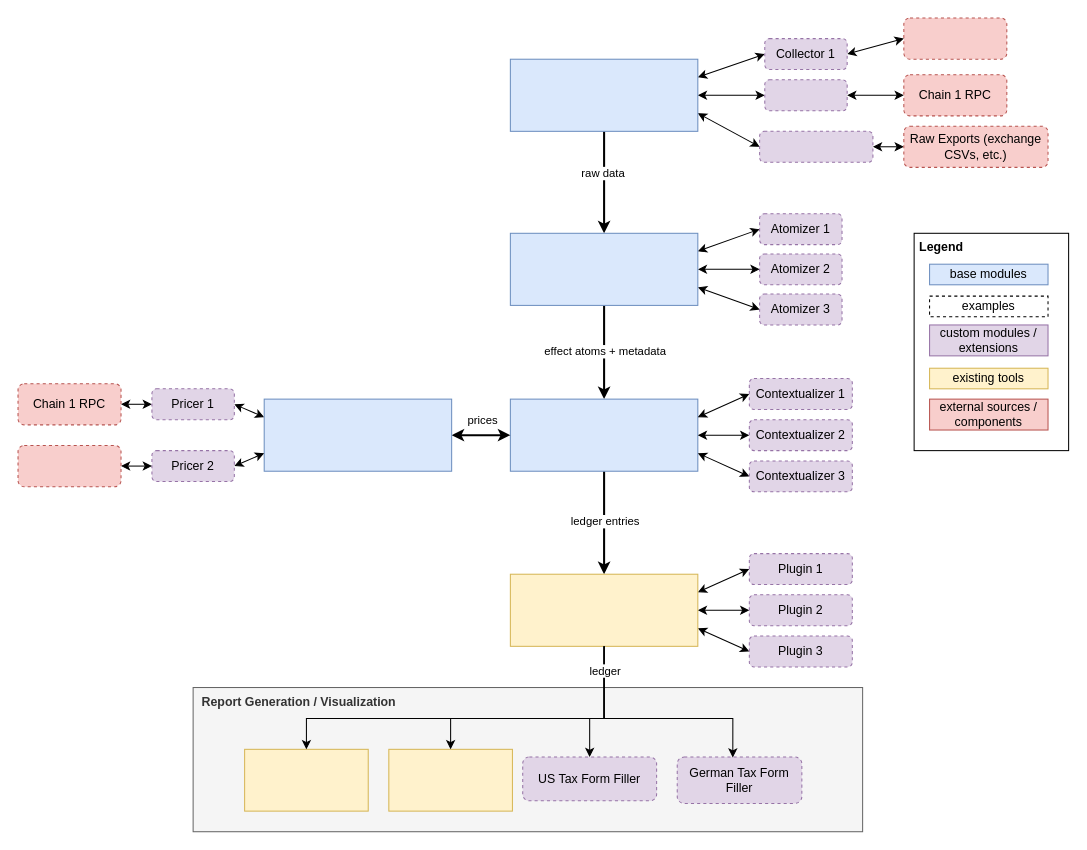
Image size: 1087x850. Some labels were removed from this diagram. The centre of each missing label's shape, as x and y in pixels:
Atomizer Extract standardized "effect atoms": the point at 603,268
Basic File Collector: the point at 816,146
bean-report CLI for creating balances, account outputs, etc.: the point at 450,779
Beancount Serves as entry storage format and verification: the point at 603,609
Coingecko: the point at 69,465
Collector 2: the point at 805,95
Collector fetches raw entries from APIs: the point at 603,94
Contextualizer Extract standardized "effect atoms": the point at 603,434
Exchange 1 API: the point at 955,38
fava web interface for beancount ledgers: the point at 306,779
Price Aggregator Determines historical and current prices of different assets: the point at 357,434
